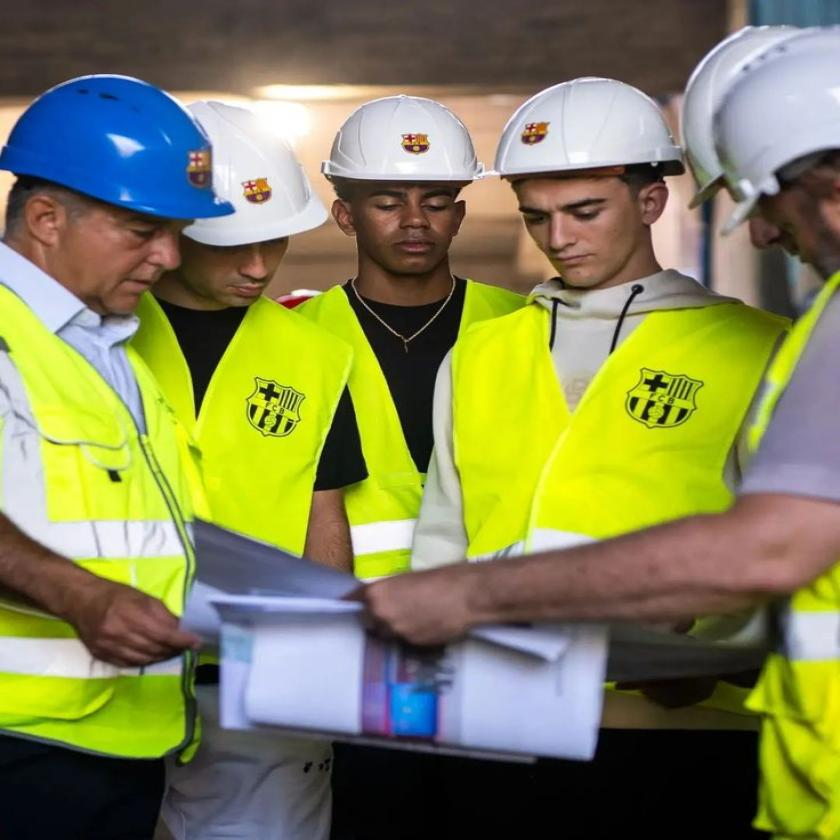Con_casco: (13, 74, 235, 334), (499, 80, 703, 298), (166, 90, 333, 309), (329, 90, 478, 305)
